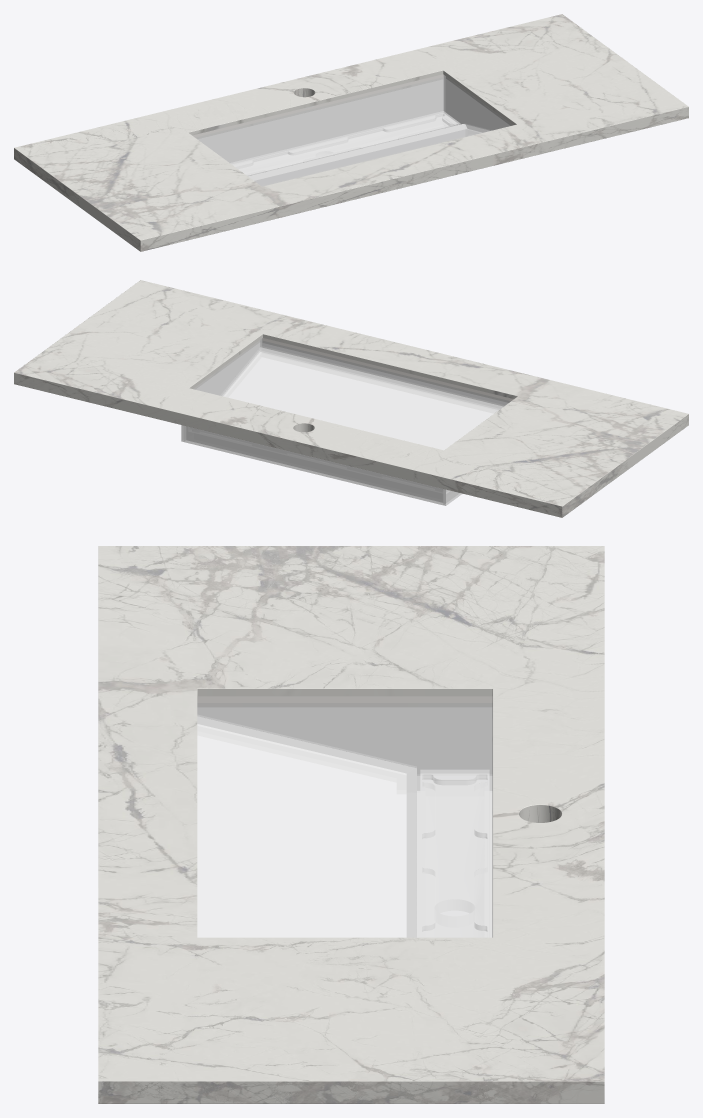
File: GLS912.glb
3 views of the same model, one above another, from view 1: azimuth 30°, elevation 25°; view 2: azimuth 150°, elevation 25°; view 3: azimuth 270°, elevation 25° (orthographic). The views are drawn at different scales.
Parts seen in each view (by area): view 1: GLS 912 cer, GLS 912(встраиваемая); view 2: GLS 912 cer, GLS 912(встраиваемая); view 3: GLS 912 cer, GLS 912(встраиваемая).
Part boxes in pixels (x1,y1,x2,y2): GLS 912 cer: (14,14,688,251); GLS 912(встраиваемая): (192,74,512,186); GLS 912 cer: (14,280,688,517); GLS 912(встраиваемая): (181,338,513,505); GLS 912 cer: (98,546,604,1103); GLS 912(встраиваемая): (197,696,492,937).
Bounding box in the file's own units: 1.5 × 0.138 × 0.6.
3 materials, 1 textured.
